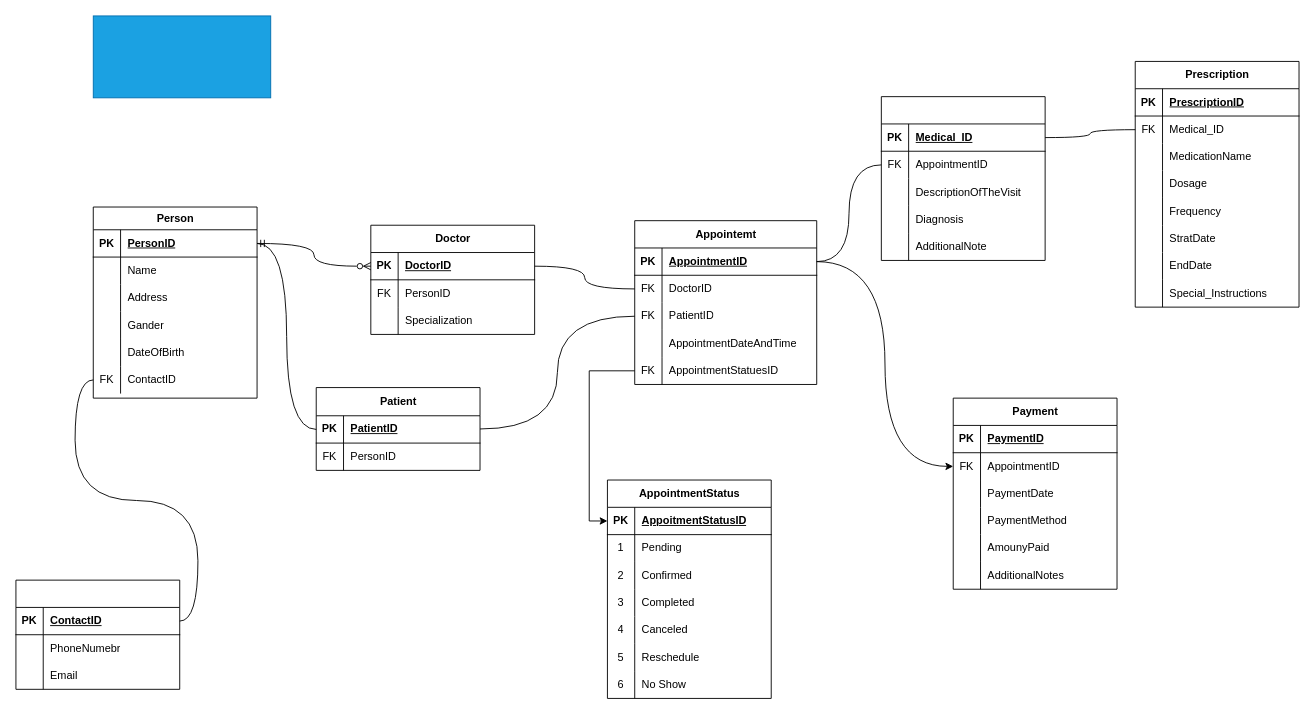
The diagram is 1315 pixels wide and 714 high, and some of its shapes have lost their labels. Here are the shapes that lost their labels. From the top down, the box of each, then its label:
(92, 15, 271, 98): clinic Database design
(880, 96, 1045, 260): Medical Record
(15, 579, 180, 689): ContactInfo
